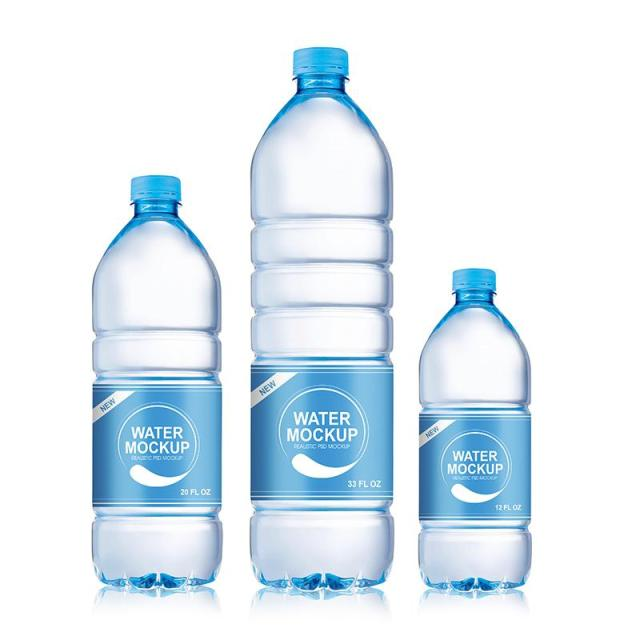plastic: (250, 47, 393, 598), (92, 175, 221, 591), (418, 268, 530, 594)
